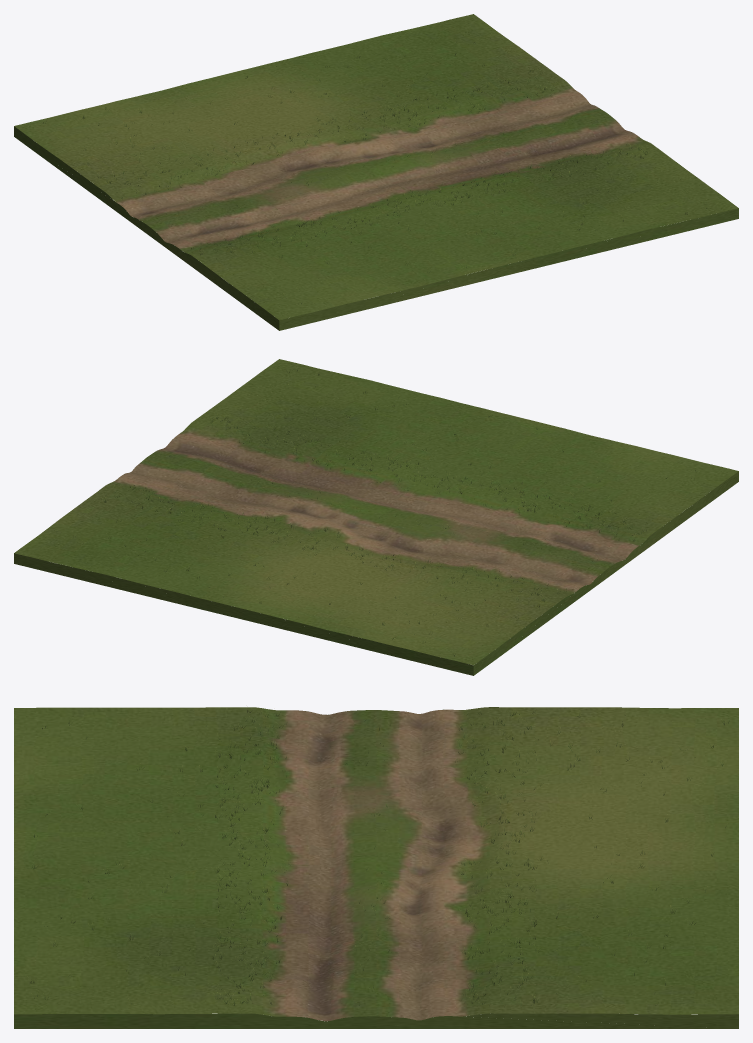
Rendered from dirt-road.glb.
3 views of the same model, one above another, from view 1: azimuth 30°, elevation 25°; view 2: azimuth 150°, elevation 25°; view 3: azimuth 270°, elevation 25° (orthographic). The views are drawn at different scales.
Visible parts, largest first — view 1: dirt-road_terrain, dirt-road; view 2: dirt-road_terrain, dirt-road; view 3: dirt-road_terrain, dirt-road.
Part boxes in pixels (bbox=[...]): dirt-road_terrain: bbox=[14, 14, 738, 330]; dirt-road: bbox=[43, 38, 706, 303]; dirt-road_terrain: bbox=[14, 359, 738, 675]; dirt-road: bbox=[56, 369, 695, 656]; dirt-road_terrain: bbox=[14, 707, 738, 1028]; dirt-road: bbox=[28, 707, 730, 1005].
Bounding box in the file's own units: 11.8 × 0.4151 × 11.8.
Materials: 2 (2 with a texture image).
